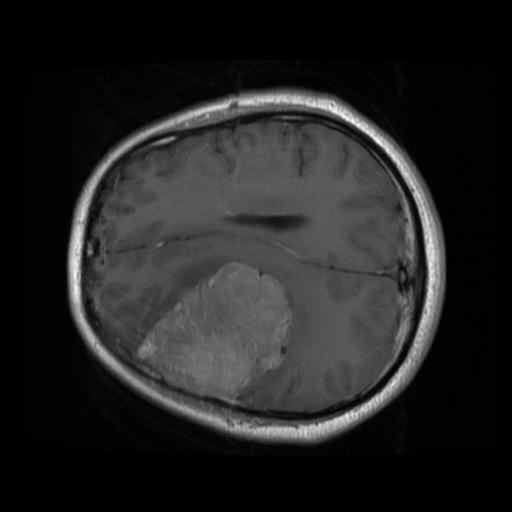meningioma: (137, 262, 291, 401)
